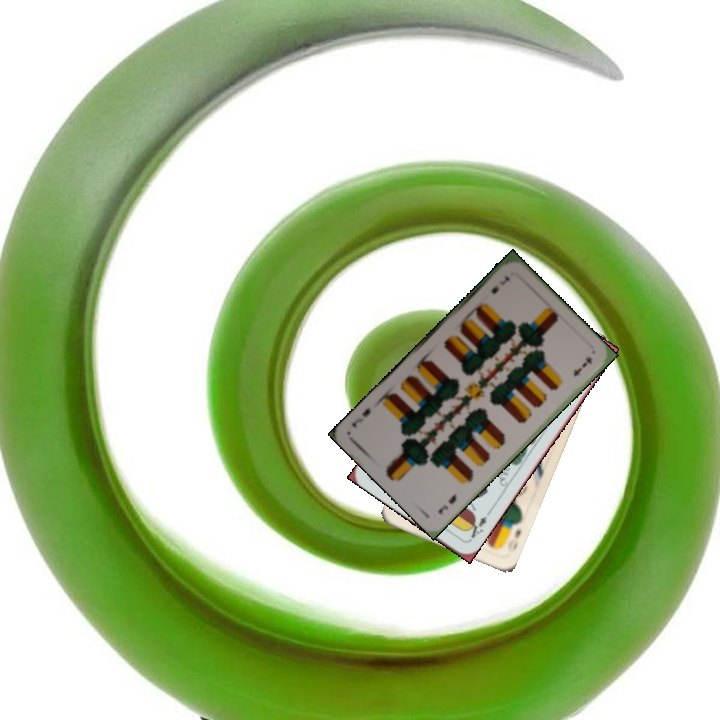E7: (434, 490, 459, 517), (487, 271, 512, 297)
EA: (463, 512, 489, 543)
EO: (506, 518, 524, 541)
